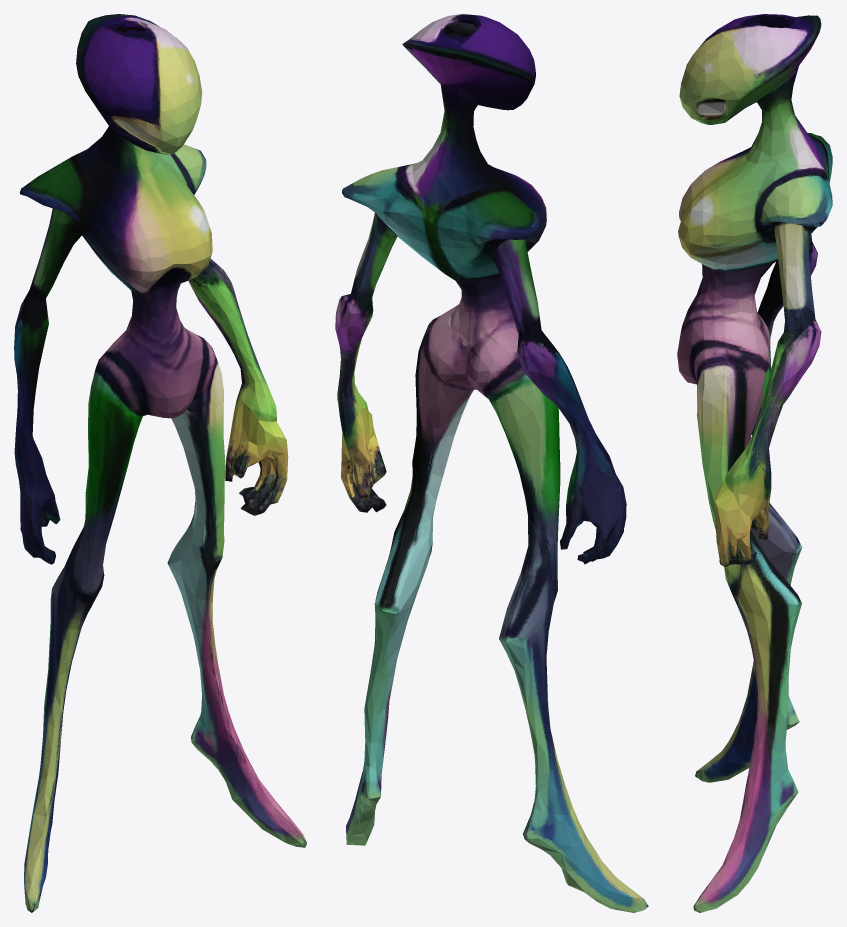
Rendered from alien_grunt.glb.
3 renders of one model, left to right at view 1: azimuth 30°, elevation 25°; view 2: azimuth 150°, elevation 25°; view 3: azimuth 270°, elevation 25°, orthographic. The views are drawn at different scales.
Visible parts, largest first — view 1: geometry_0; view 2: geometry_0; view 3: geometry_0.
Part boxes in pixels (left/top/right/bottom): geometry_0: left=14, top=14, right=306, bottom=912; geometry_0: left=335, top=14, right=648, bottom=912; geometry_0: left=677, top=14, right=832, bottom=912.
Bounding box in the file's own units: 0.6327 × 1.8 × 0.3074.
Materials: 1 (1 with a texture image).
